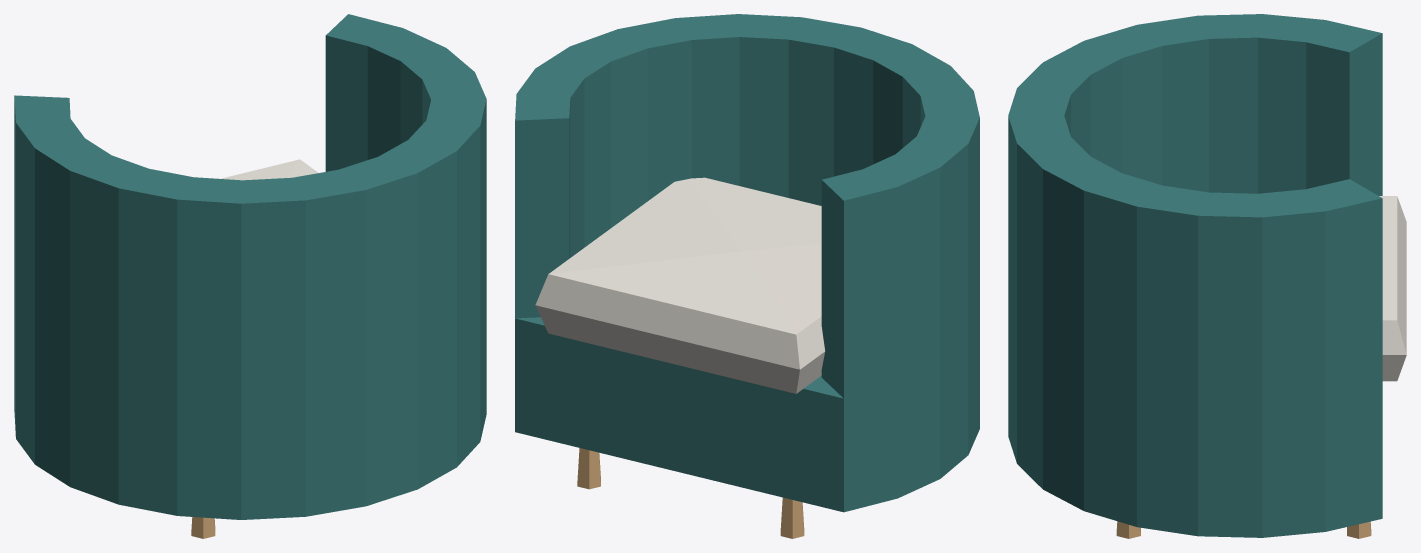
Rendered from SM_LPI_Seat_Armchair_04.fbx.
3 renders of one model, left to right at view 1: azimuth 30°, elevation 25°; view 2: azimuth 150°, elevation 25°; view 3: azimuth 270°, elevation 25°, orthographic. The views are drawn at different scales.
Visible parts, largest first — view 1: SM_LPI_Seat_Armchair_04; view 2: SM_LPI_Seat_Armchair_04; view 3: SM_LPI_Seat_Armchair_04.
Boxes of the visible parts, x1=… form: SM_LPI_Seat_Armchair_04: x1=14, y1=14, x2=486, y2=538; SM_LPI_Seat_Armchair_04: x1=515, y1=14, x2=979, y2=538; SM_LPI_Seat_Armchair_04: x1=1008, y1=14, x2=1406, y2=538.
Bounding box in the file's own units: 0.8573 × 0.72 × 0.71.
